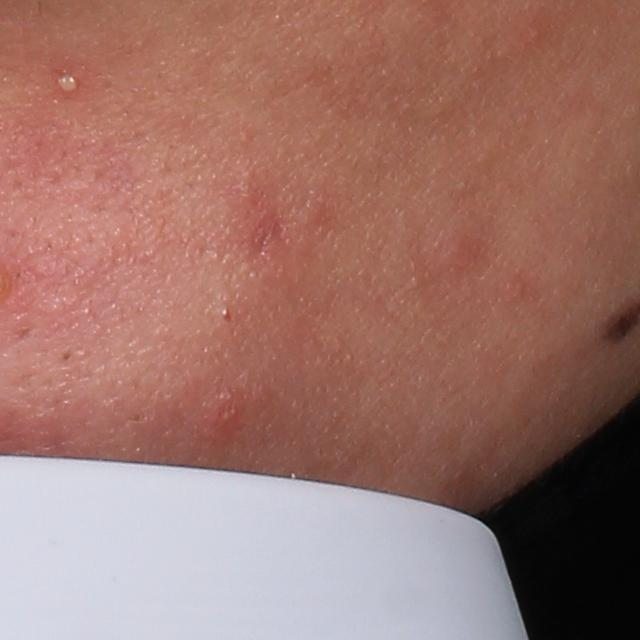papule: (205, 396, 243, 436)
